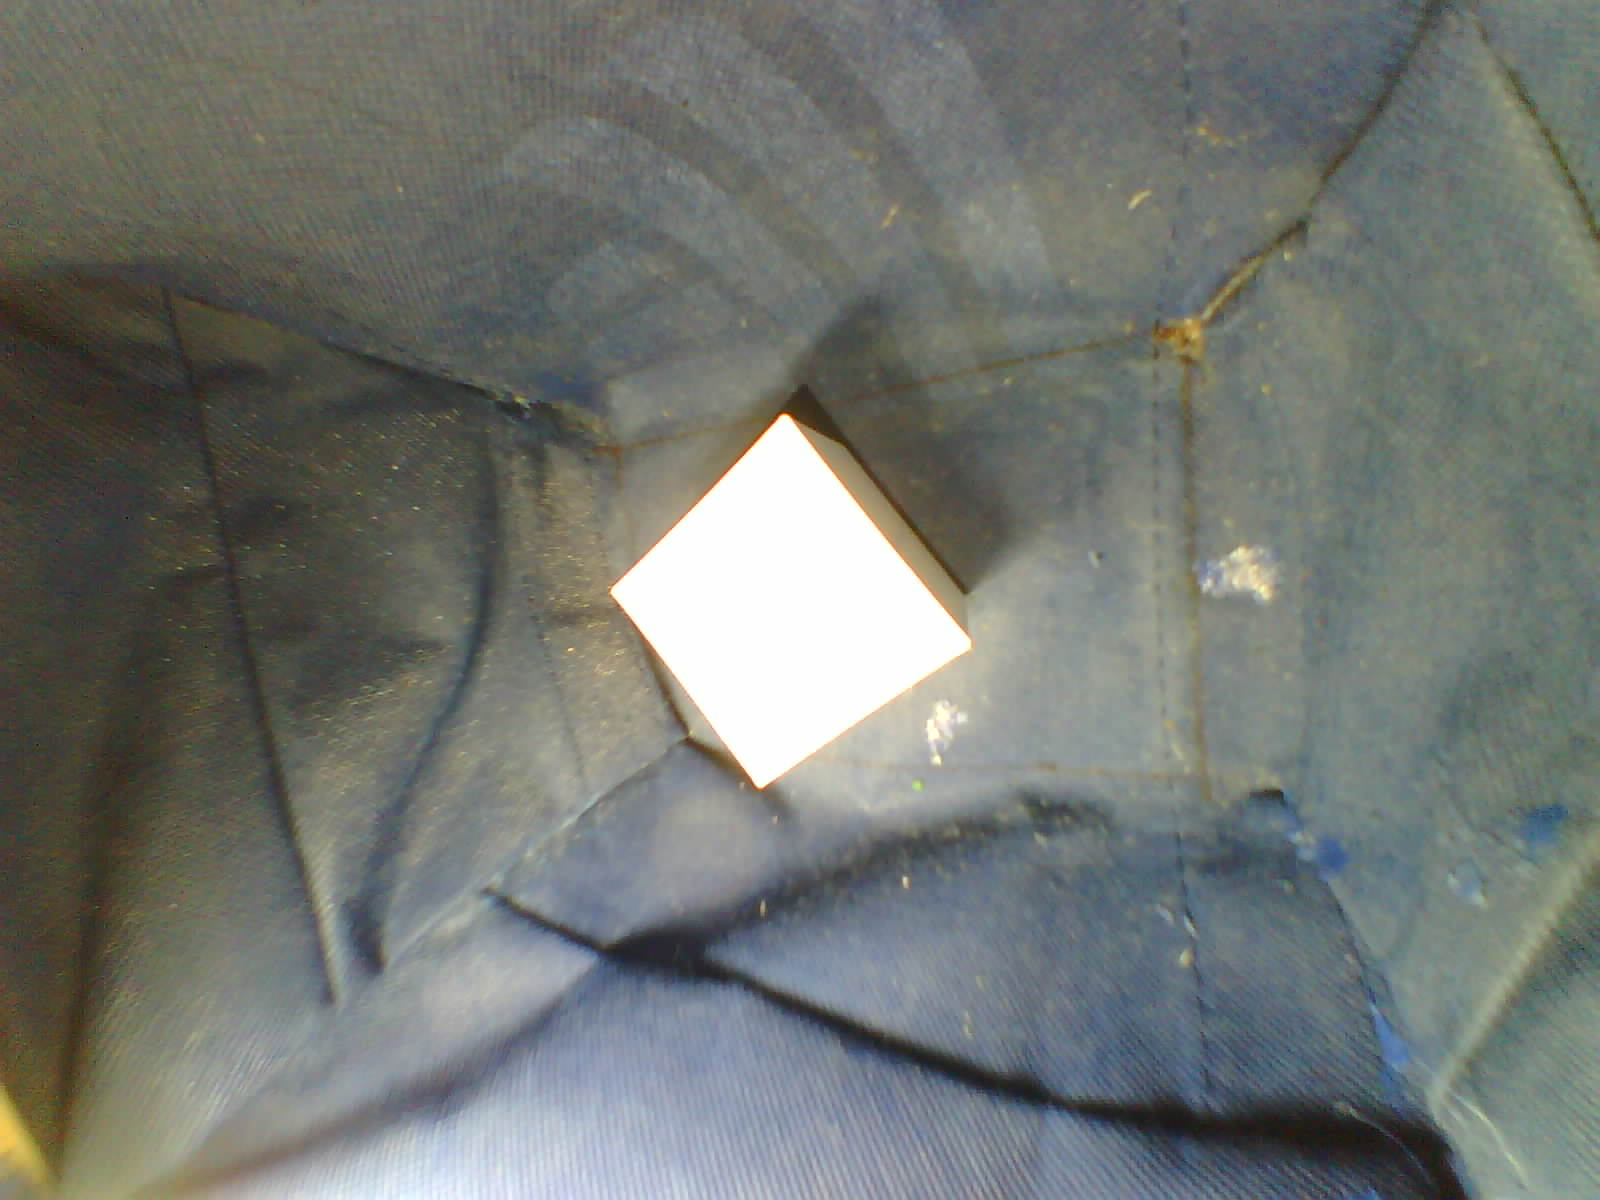cube-hard: (596, 393, 989, 831)
